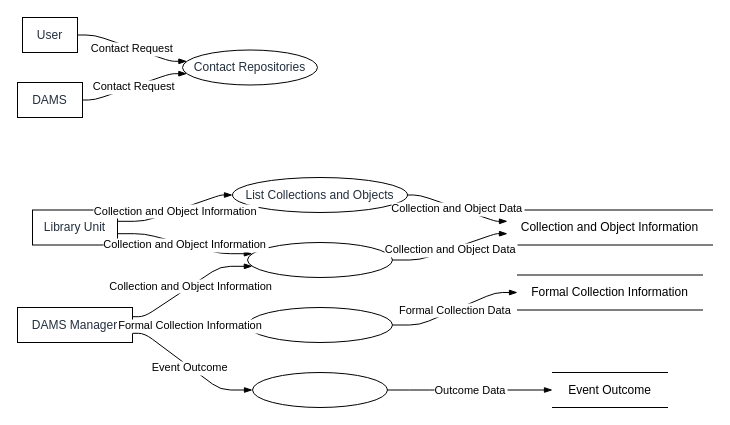
This 730x425 diagram has some shape labels left out. The shapes that lost their labels are listed below. From the top down, each one's box as (x1, y1, x2, y2) in pixels, then its label:
(246, 242, 392, 278): Browse by Collections
(246, 306, 392, 342): List Formal Collections
(252, 372, 388, 408): Outcome Notification
